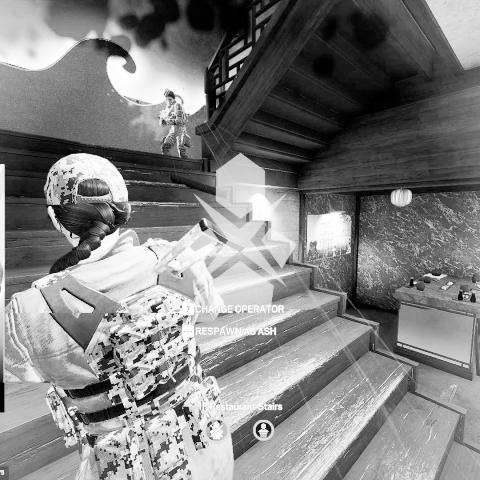Character: (0, 152, 236, 479), (158, 87, 193, 160)
Head: (44, 154, 133, 253), (162, 88, 176, 106)
